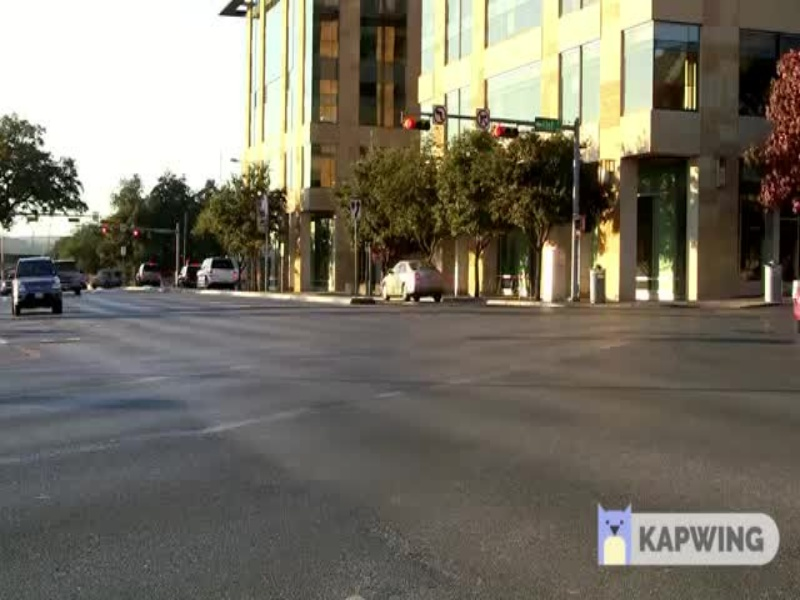car: (372, 258, 454, 305)
suv: (6, 250, 72, 322), (191, 253, 246, 293)
